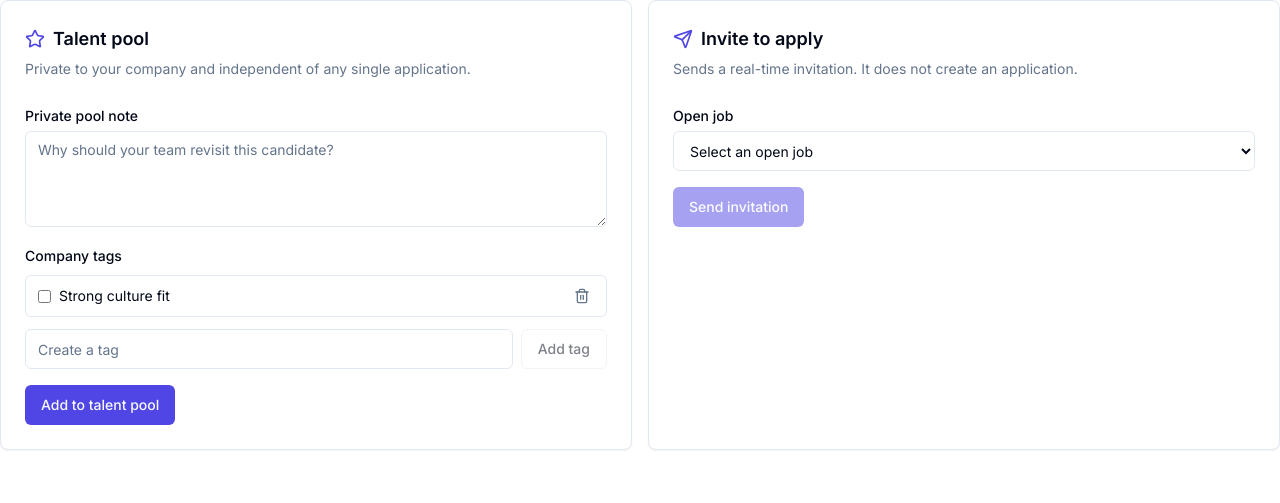
TalentPoolSection › adds a prior candidate with private notes and selected tags
The width and height of the screenshot is (1280, 503).
Type "Revisit for a staff role." into the text box labelled "Private pool note". click: (316, 179)
box: x1=25 y1=131 x2=607 y2=227
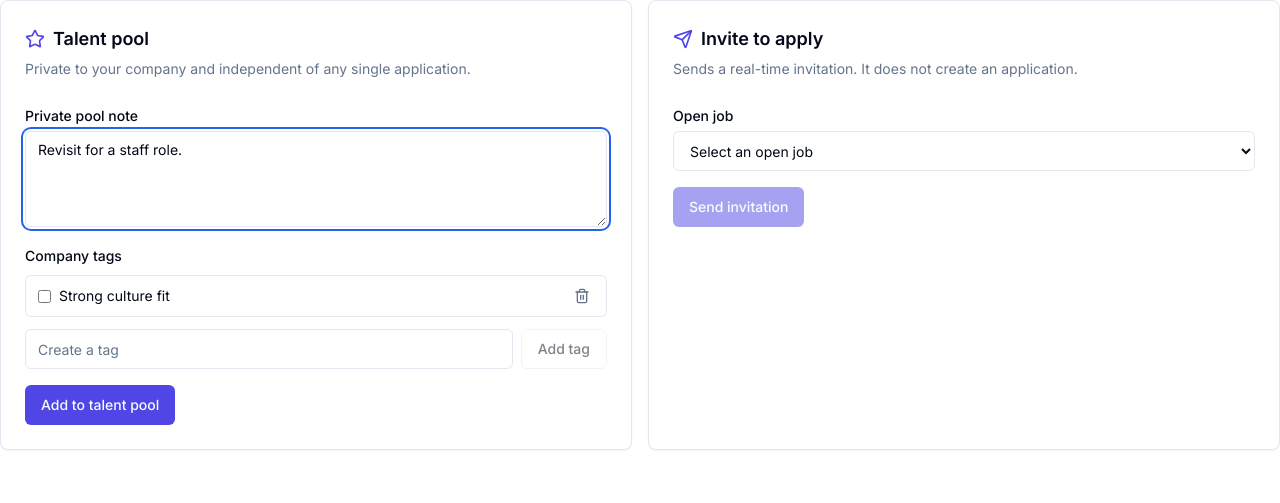
Click the checkbox labelled "Strong culture fit". click: (44, 296)
box: x1=38 y1=290 x2=51 y2=302
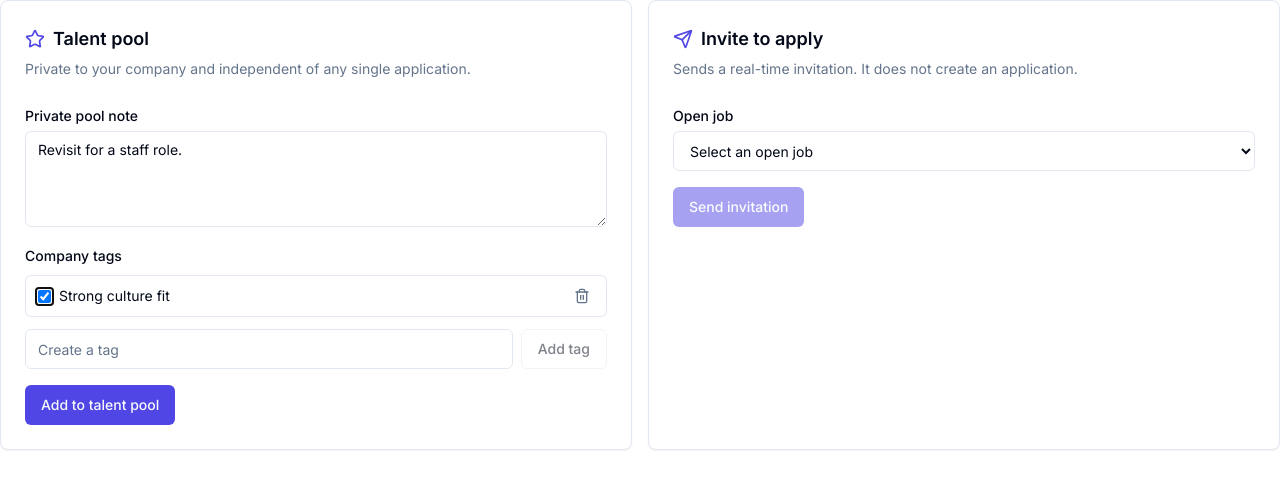
Click the button "Add to talent pool". click: (100, 405)
box: x1=25 y1=385 x2=175 y2=425
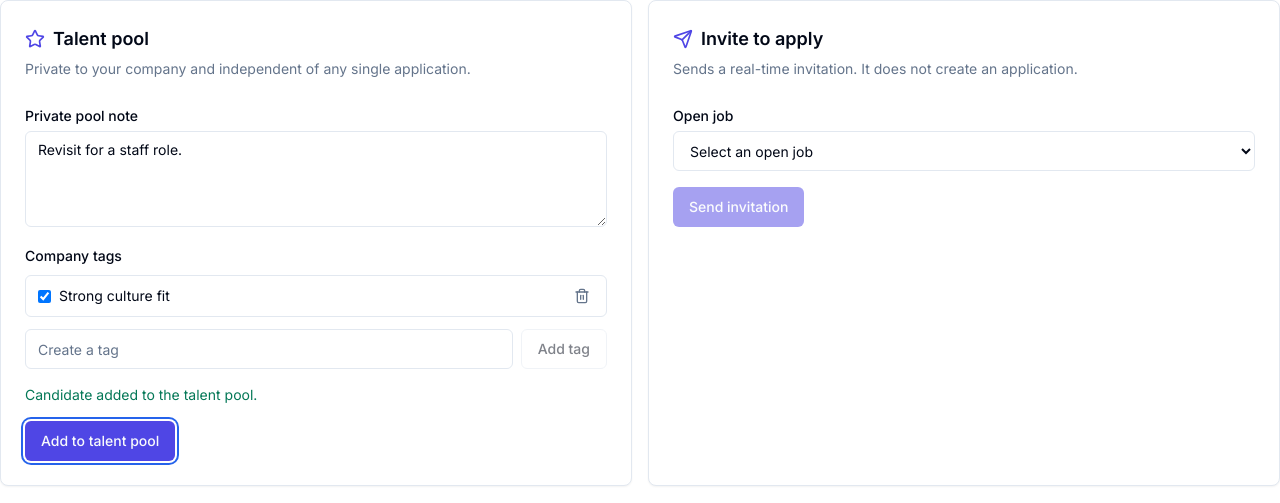
Expected: the message shows "Candidate added to the talent pool", x1=25 y1=386 x2=257 y2=403
